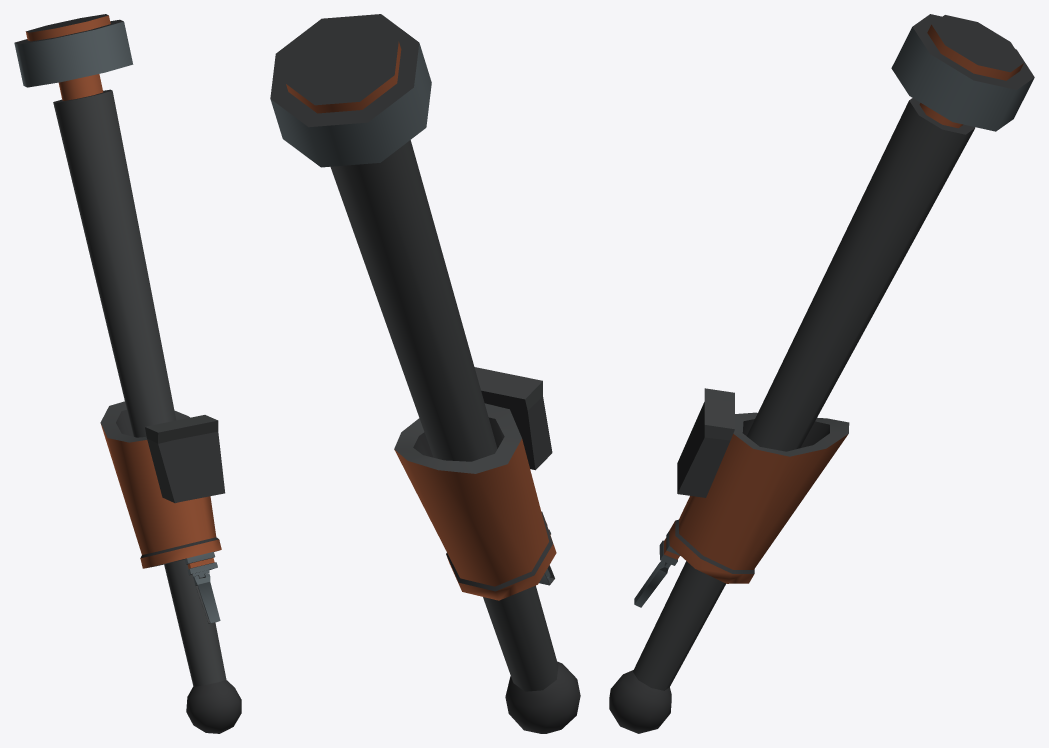
The model's file is just oprong.fbx.
3 views of the same model, side by side, from view 1: azimuth 30°, elevation 25°; view 2: azimuth 150°, elevation 25°; view 3: azimuth 270°, elevation 25° (orthographic). The views are drawn at different scales.
Visible parts, largest first — view 1: Shock Prong.L; view 2: Shock Prong.L; view 3: Shock Prong.L.
Boxes of the visible parts, x1=… form: Shock Prong.L: x1=14, y1=14, x2=241, y2=733; Shock Prong.L: x1=270, y1=14, x2=580, y2=733; Shock Prong.L: x1=609, y1=14, x2=1034, y2=733.
Size of the model in its own units: 146 by 844 by 461.
